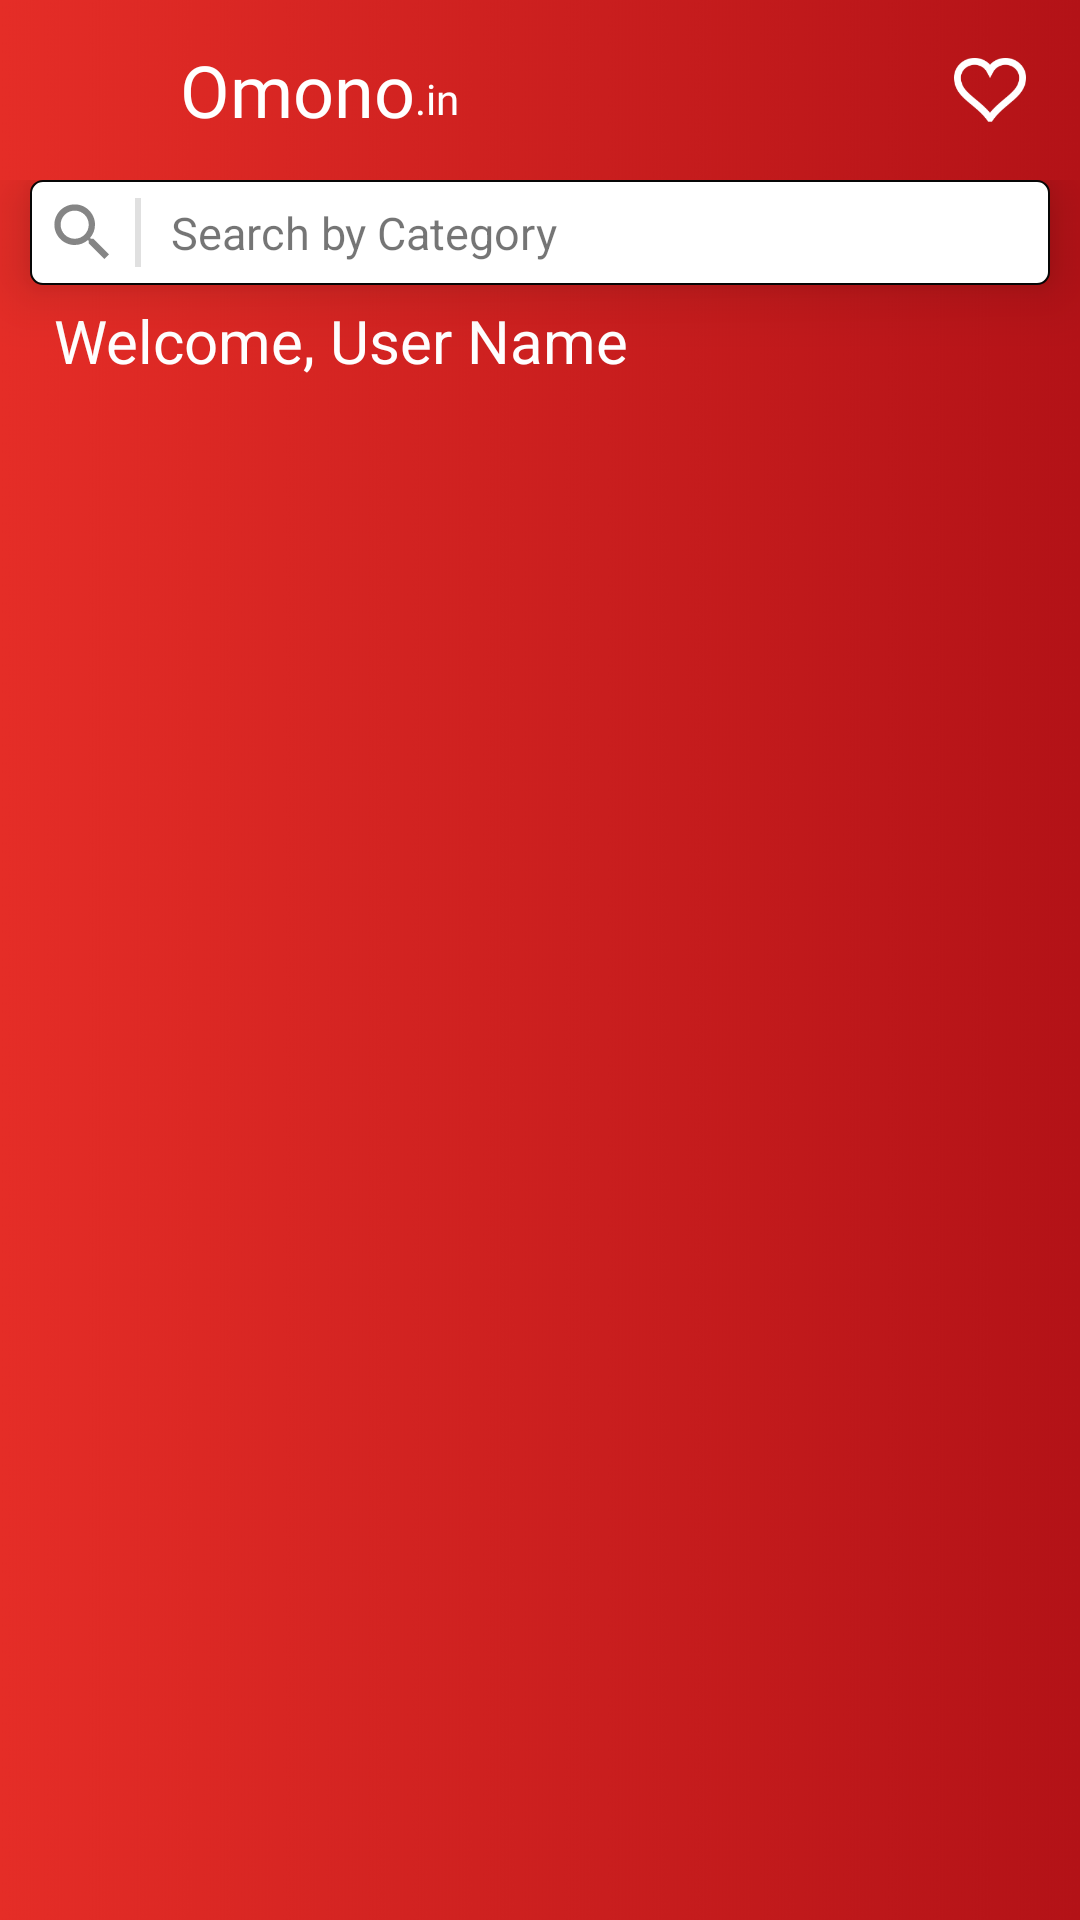

Named icons in this screenshot (1080 × 1920) and their centers, (x,y):
heart thick stroke: (990,90)
